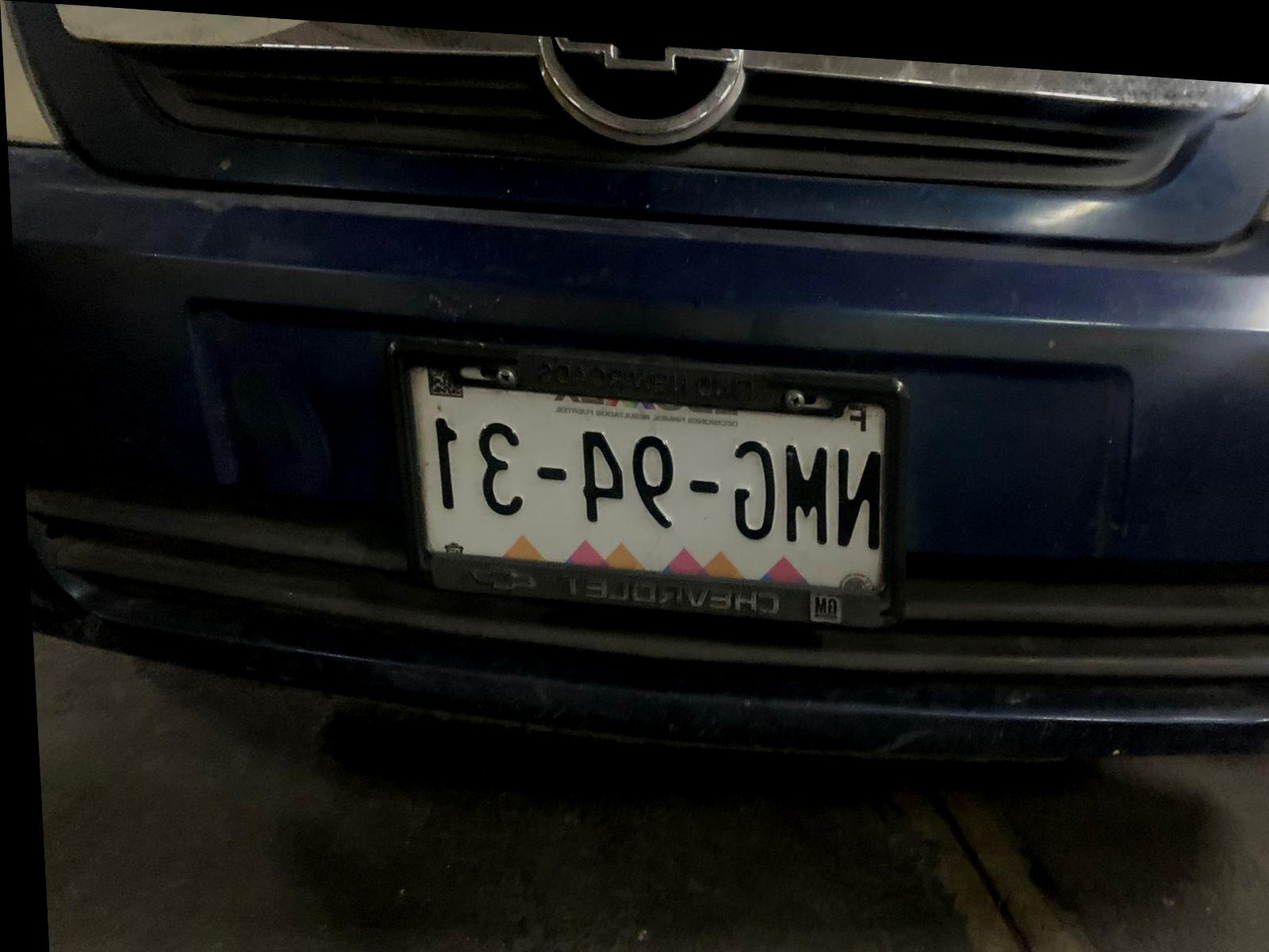License_Plate: (376, 323, 942, 659)
